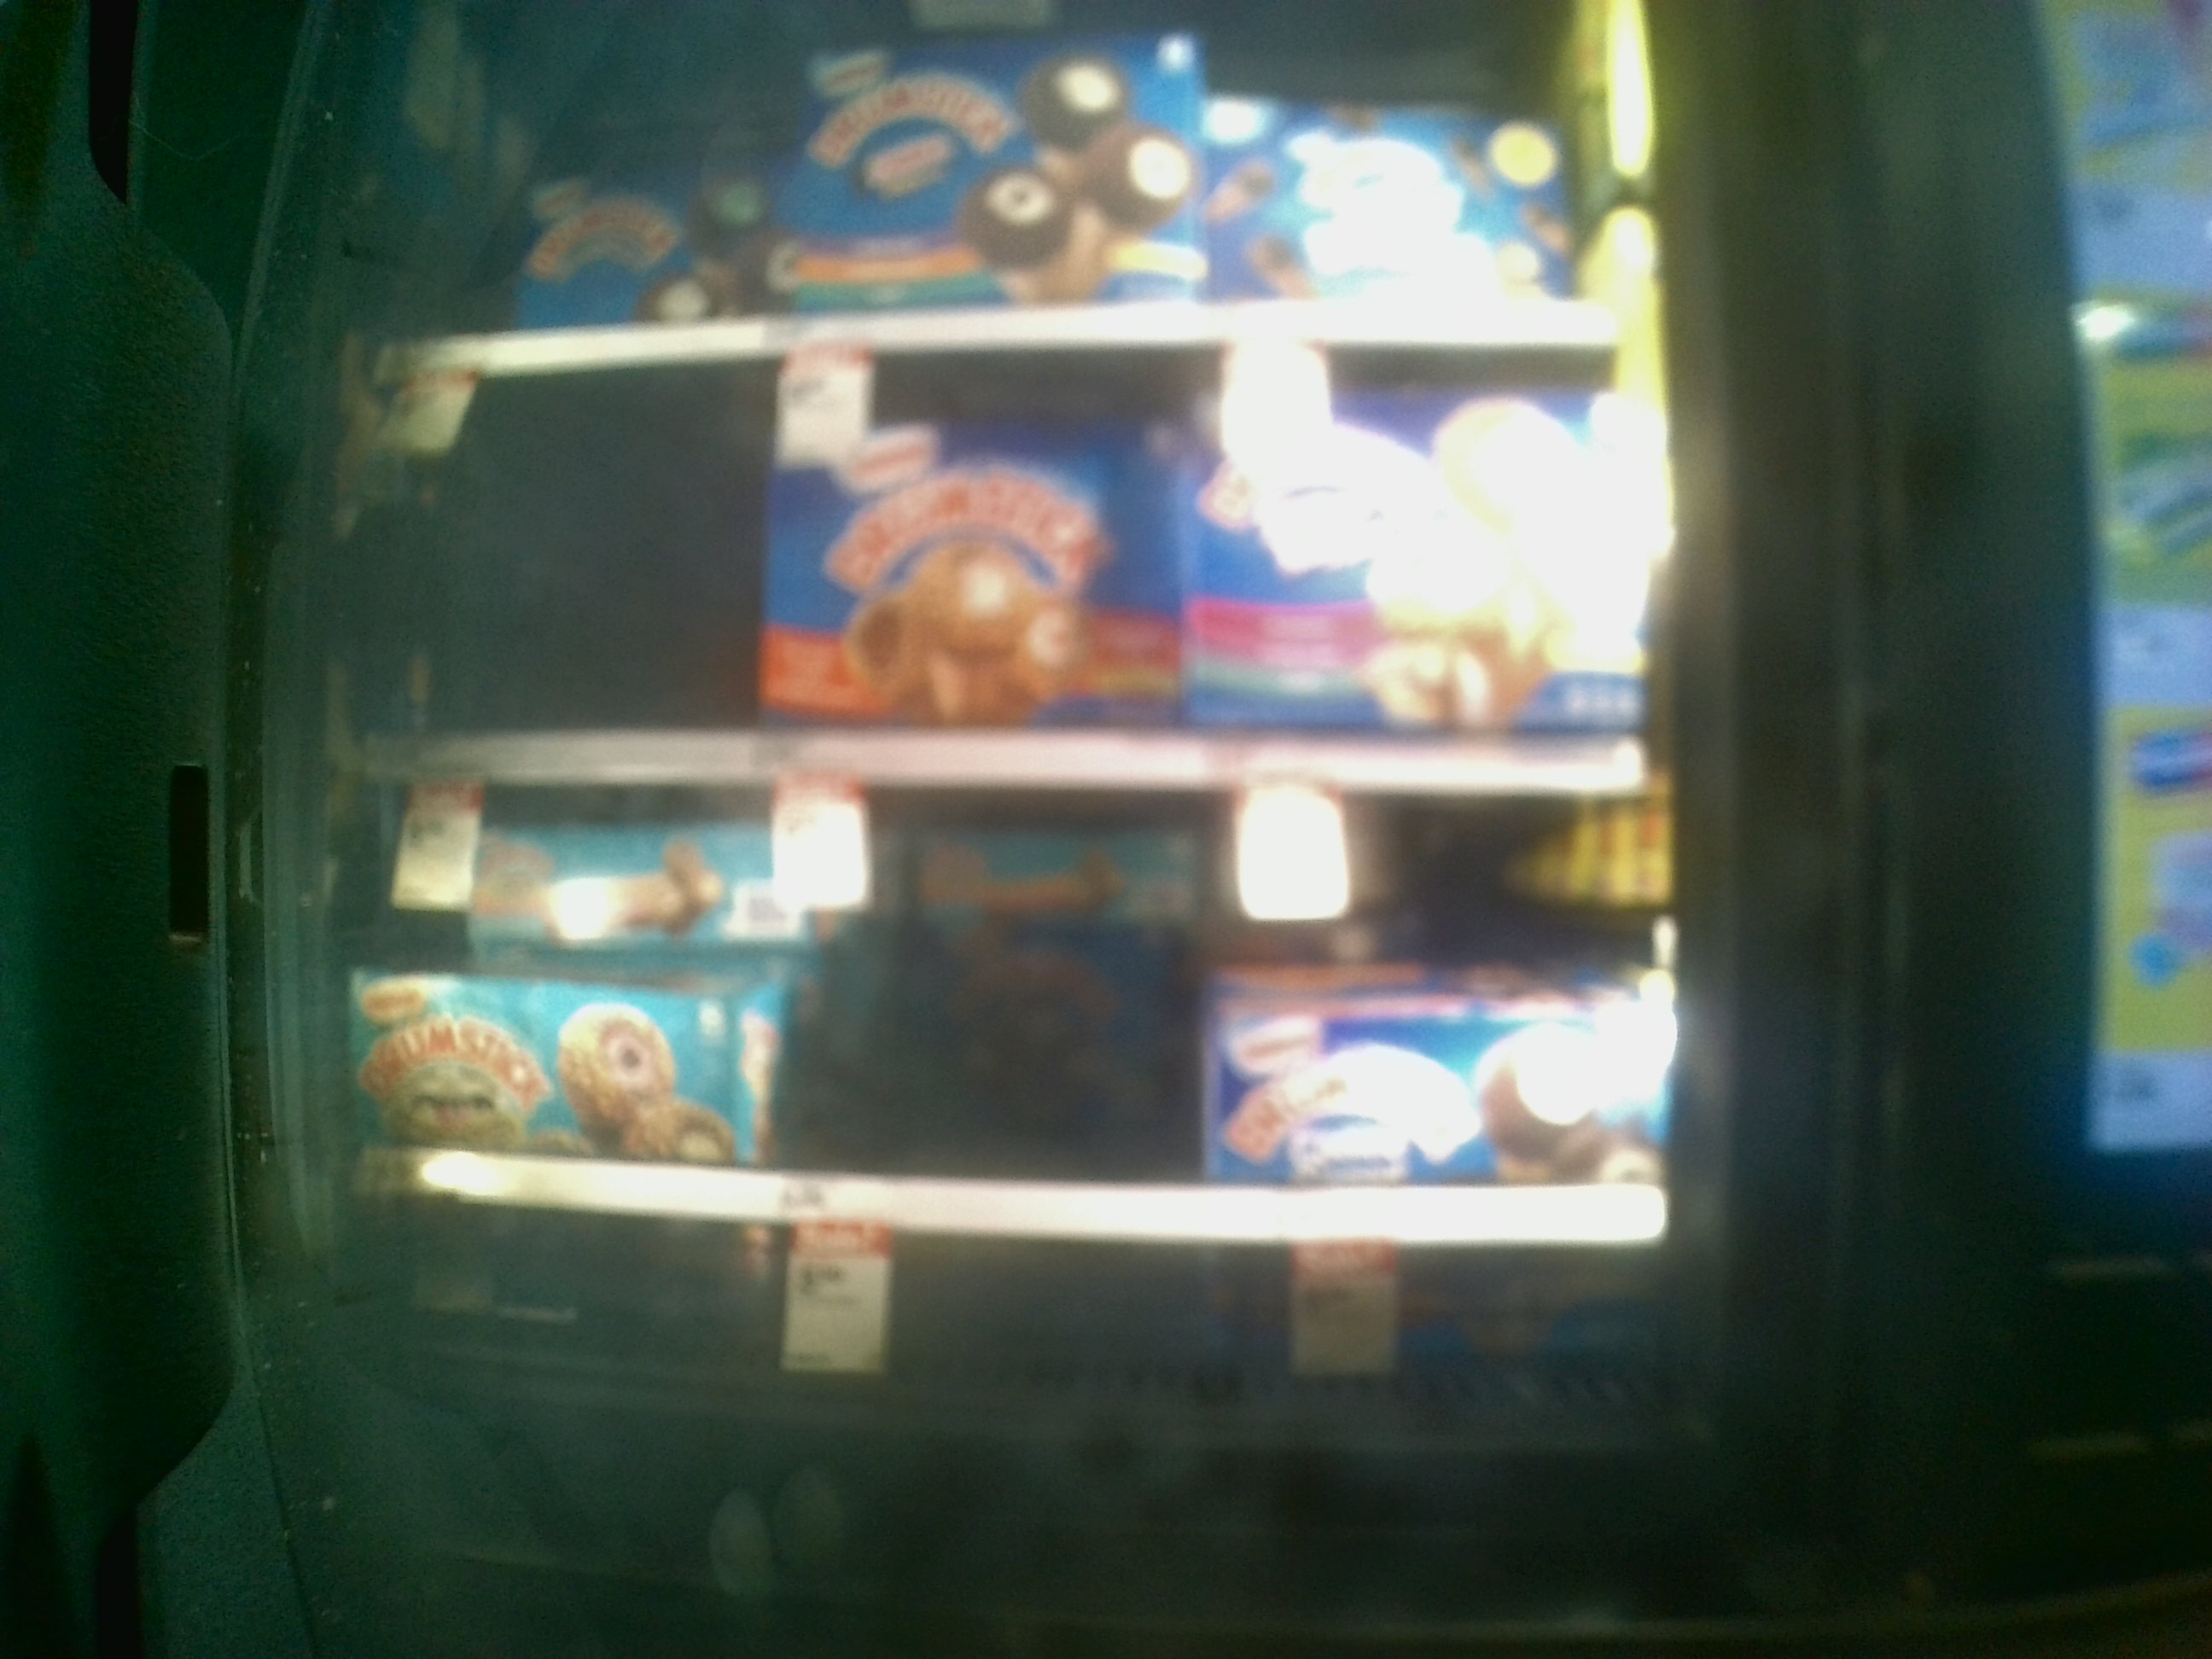shelf: (355, 788, 1686, 1227), (355, 355, 1676, 788)
